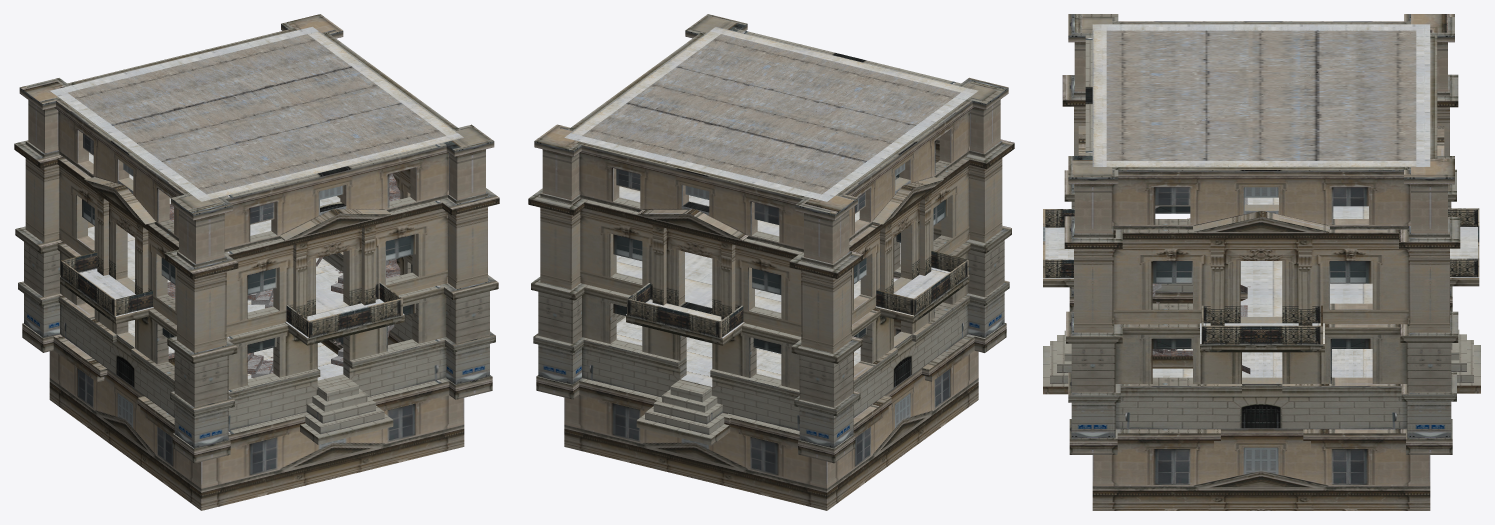
Rendered from BagBuilding6_200.fbx.
3 renders of one model, left to right at view 1: azimuth 30°, elevation 25°; view 2: azimuth 150°, elevation 25°; view 3: azimuth 270°, elevation 25°, orthographic. The views are drawn at different scales.
Parts seen in each view (by area): view 1: mainA200, roofA200, roofAb200, frontsteps200, floorA200, stairsA200; view 2: mainA200, roofA200, roofAb200, floorA200, backsteps200; view 3: mainA200, roofA200, roofAb200, floorA200, frontsteps200, backsteps200, stairsA200.
Boxes of the visible parts, left/top/right/bottom form: mainA200: left=14, top=14, right=499, bottom=510; roofA200: left=68, top=34, right=445, bottom=194; roofAb200: left=50, top=26, right=463, bottom=337; frontsteps200: left=296, top=379, right=393, bottom=444; floorA200: left=88, top=152, right=349, bottom=380; stairsA200: left=167, top=173, right=400, bottom=377; mainA200: left=528, top=14, right=1014, bottom=510; roofA200: left=582, top=34, right=960, bottom=194; roofAb200: left=564, top=26, right=978, bottom=338; floorA200: left=616, top=186, right=897, bottom=386; backsteps200: left=636, top=379, right=733, bottom=445; mainA200: left=1043, top=14, right=1479, bottom=510; roofA200: left=1106, top=30, right=1416, bottom=160; roofAb200: left=1043, top=24, right=1479, bottom=343; floorA200: left=1168, top=197, right=1372, bottom=377; frontsteps200: left=1043, top=330, right=1071, bottom=394; backsteps200: left=1451, top=329, right=1480, bottom=393; stairsA200: left=1152, top=197, right=1250, bottom=373.
Bounding box in the file's own units: 21.24 × 18.51 × 21.35.
